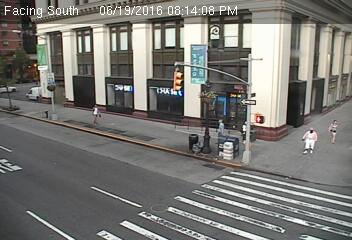neg: (20, 83, 45, 116), (222, 144, 245, 174), (236, 78, 259, 108), (26, 100, 40, 117), (5, 80, 18, 97), (25, 65, 38, 82), (44, 109, 52, 120)
pos: (299, 124, 323, 155), (83, 100, 106, 131), (325, 117, 347, 146), (213, 115, 233, 142)
